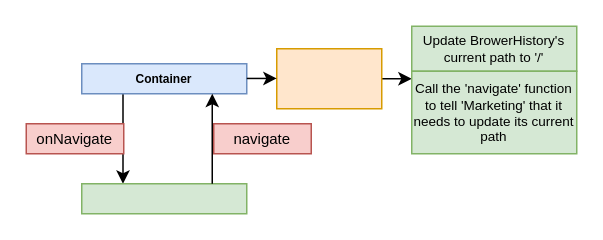
Image size: 603x240. Some labels were removed from this diagram. Each missing label, with the centre of its shape:
"Click on App link in the header" goes at (x=328, y=78).
"Marketing" goes at (x=163, y=198).
